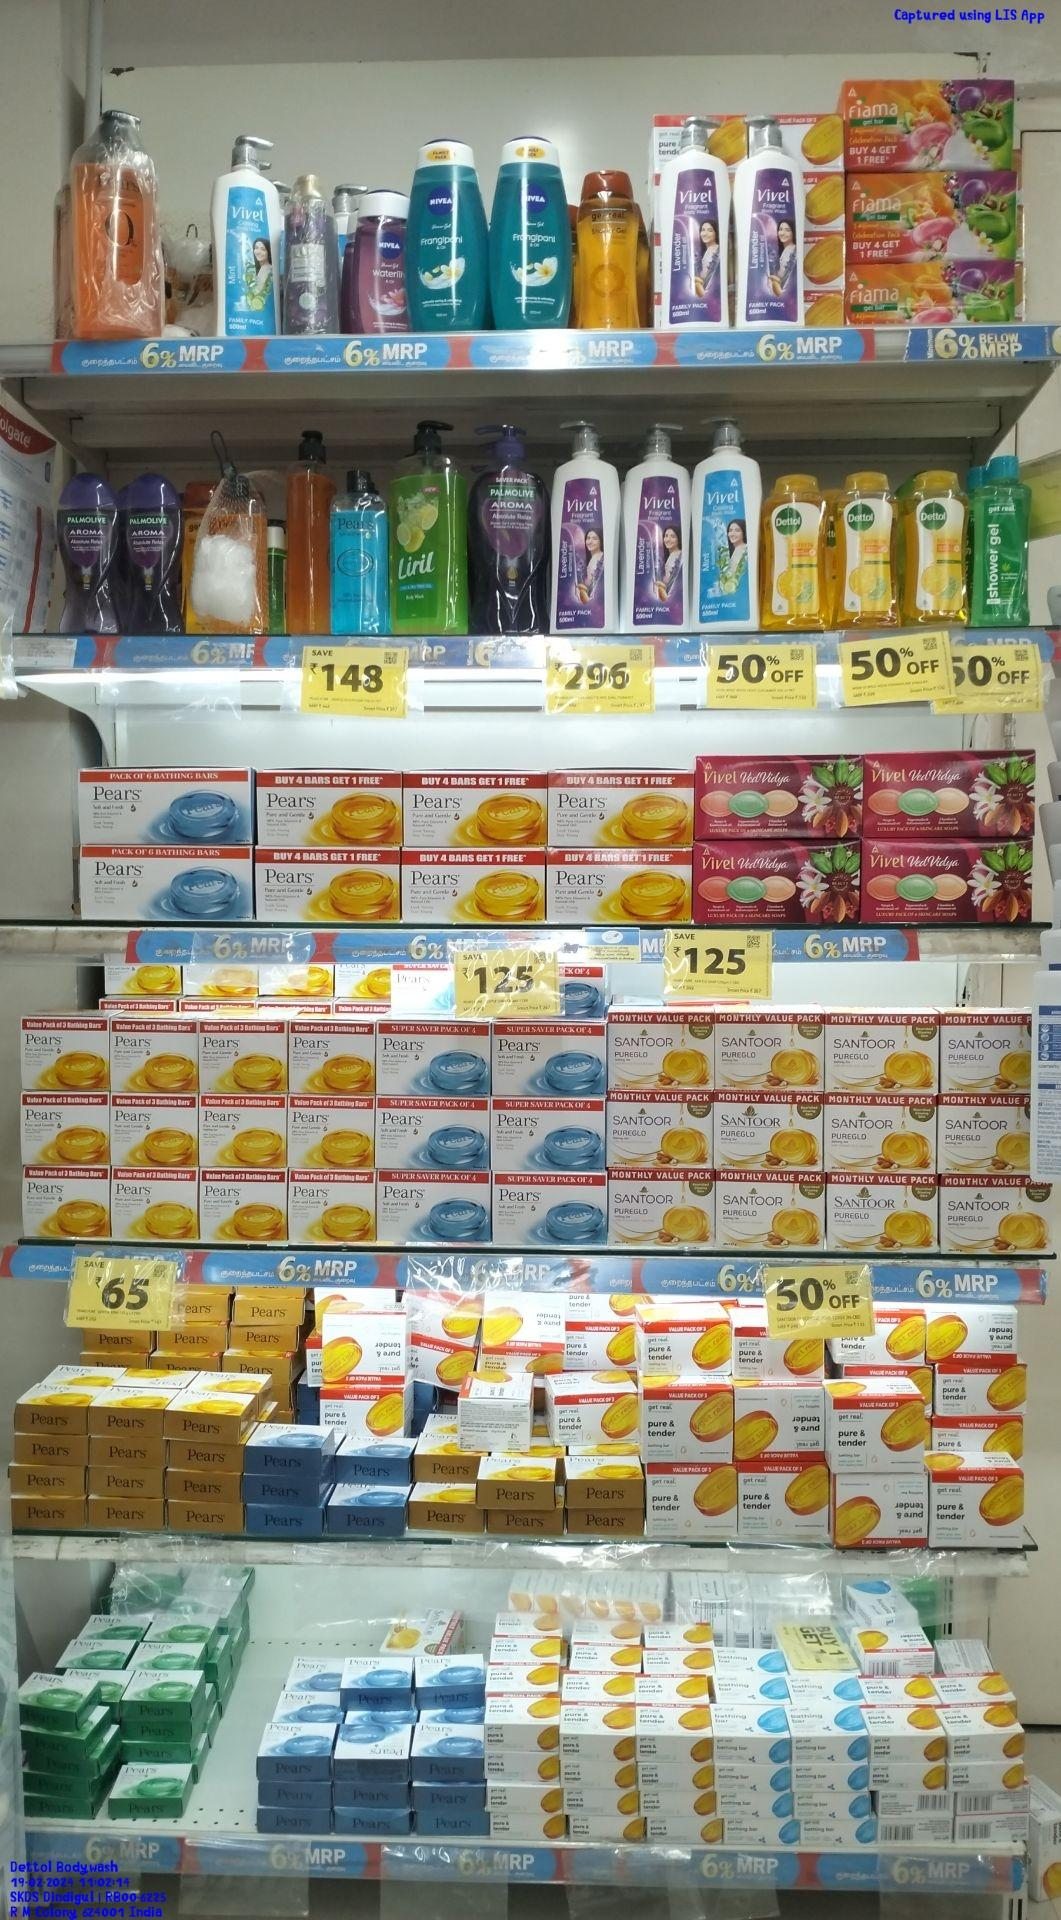Dettol_Bodywash_Refresh: (902, 465, 970, 623), (763, 474, 828, 632), (838, 477, 900, 618)
Palmolive_Aroma_Relax_250ML: (48, 469, 118, 637), (119, 477, 180, 637)
Pears_Pure_Glycerin_and_Mint_Extracts_Body_Wash_250ML: (332, 473, 389, 643)
